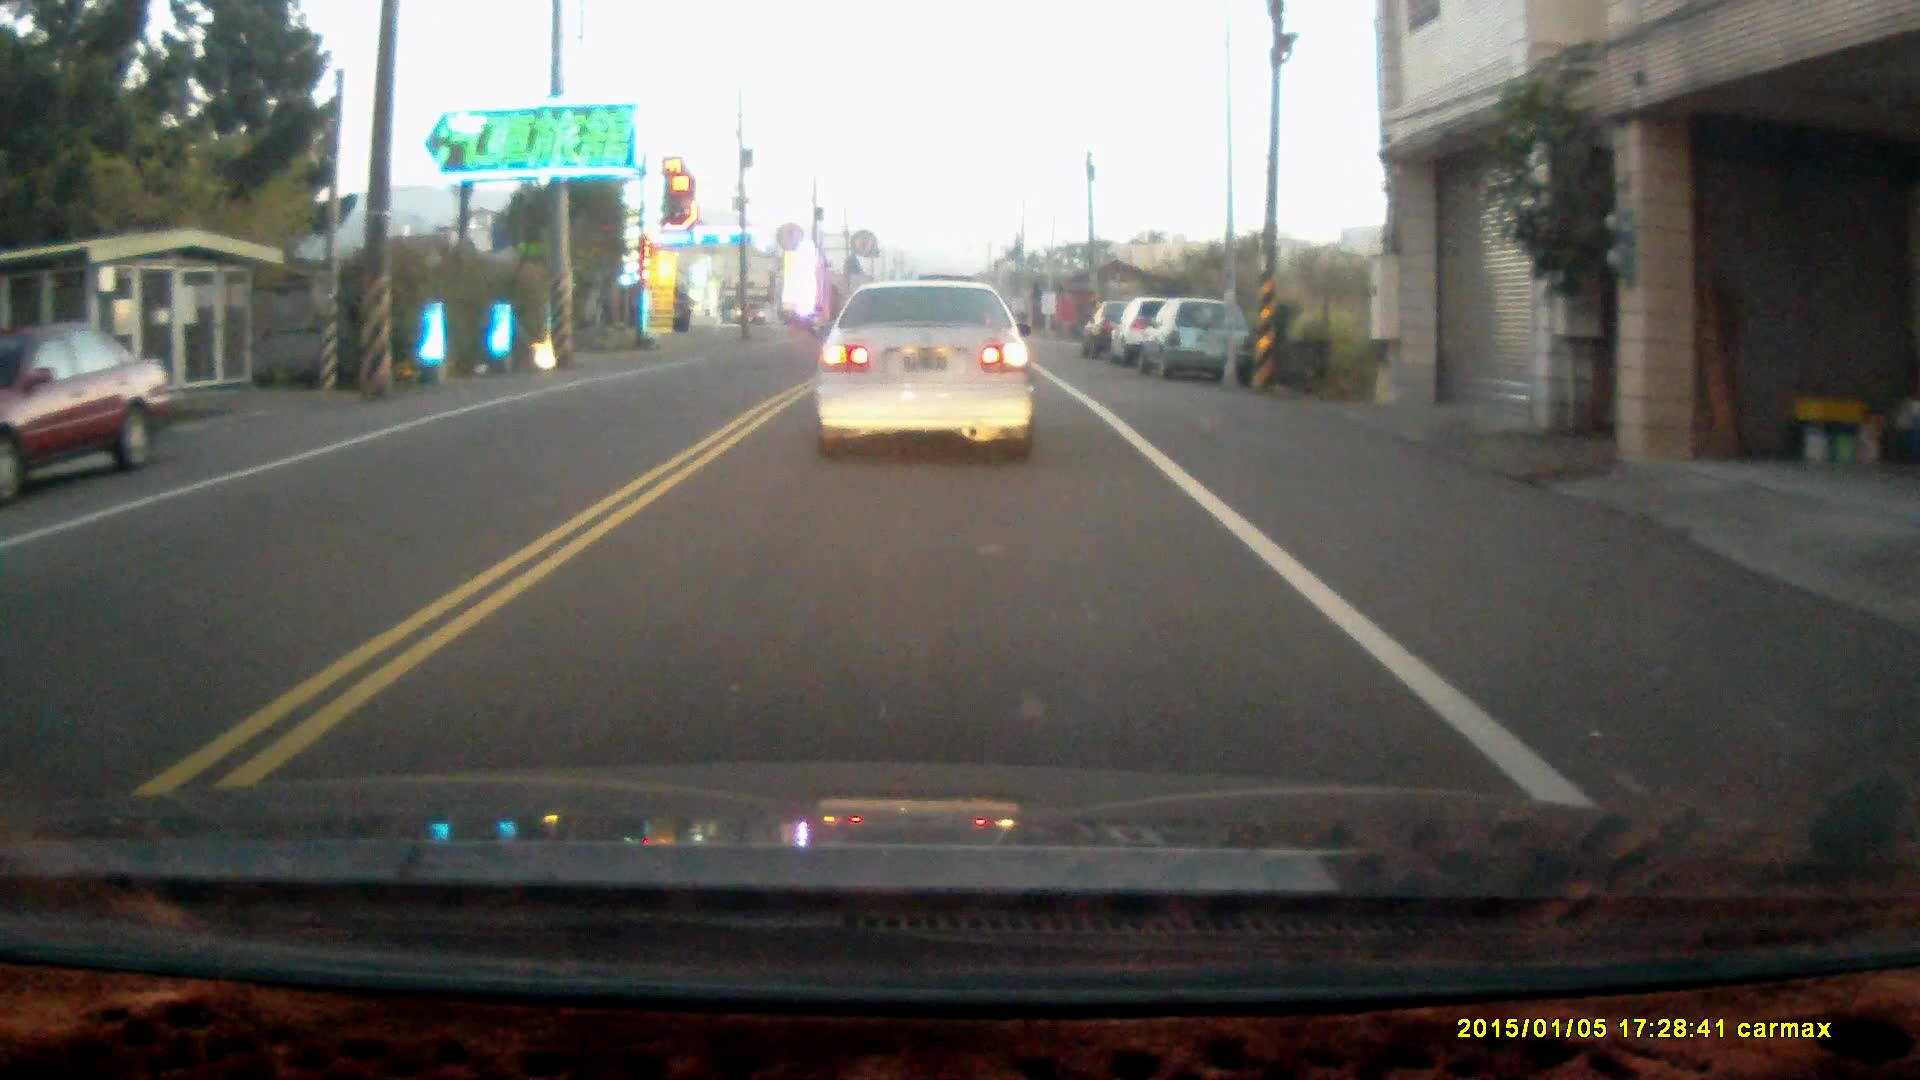vehicle: (814, 276, 1039, 459), (1, 322, 174, 491), (1142, 297, 1254, 389), (1116, 294, 1205, 364), (1079, 293, 1170, 356)
